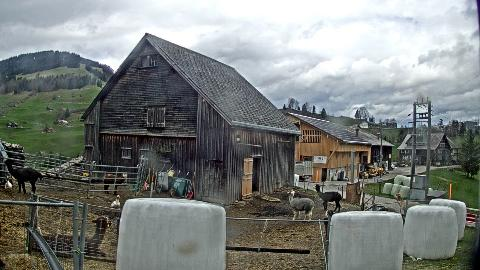car: (390, 163, 396, 171)
sheep: (30, 216, 112, 256), (6, 158, 42, 195), (288, 189, 314, 223), (314, 184, 342, 210), (394, 194, 422, 217), (103, 173, 128, 195), (323, 216, 333, 246), (382, 206, 400, 222), (326, 210, 338, 230)
